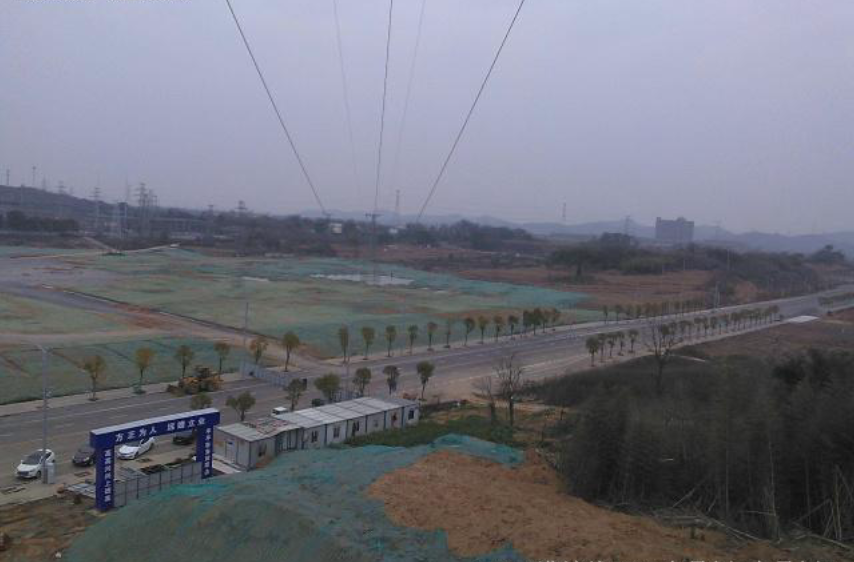绿膜: (37, 245, 632, 362), (44, 442, 434, 561), (0, 329, 283, 406), (0, 291, 173, 332), (432, 524, 535, 561), (432, 431, 528, 468), (0, 243, 94, 257)
